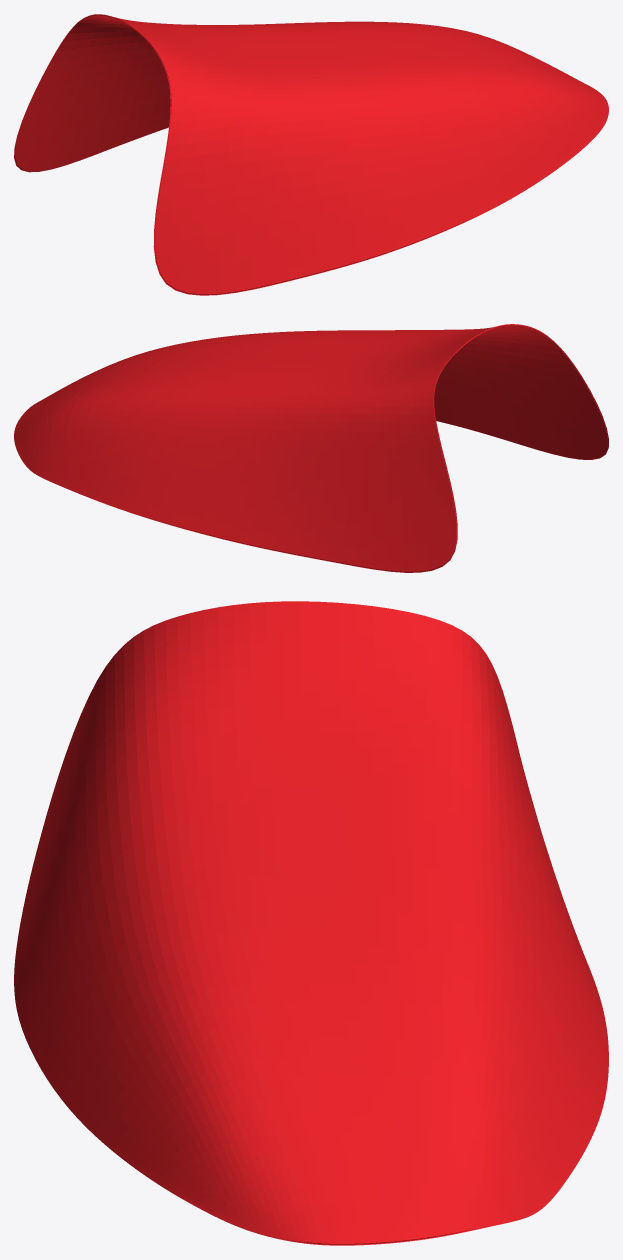
Rendered from frontRightRed.obj.
3 renders of one model, top to bottom at view 1: azimuth 30°, elevation 25°; view 2: azimuth 150°, elevation 25°; view 3: azimuth 270°, elevation 25°, orthographic. The views are drawn at different scales.
Visible parts, largest first — view 1: Plane; view 2: Plane; view 3: Plane.
Part boxes in pixels (box(x1,y1,x2,y2)): Plane: box(14, 14, 608, 295); Plane: box(14, 324, 608, 572); Plane: box(14, 601, 608, 1245).
Bounding box in the file's own units: 14.6 × 5.14 × 9.
Materials: 1 (1 with a texture image).
